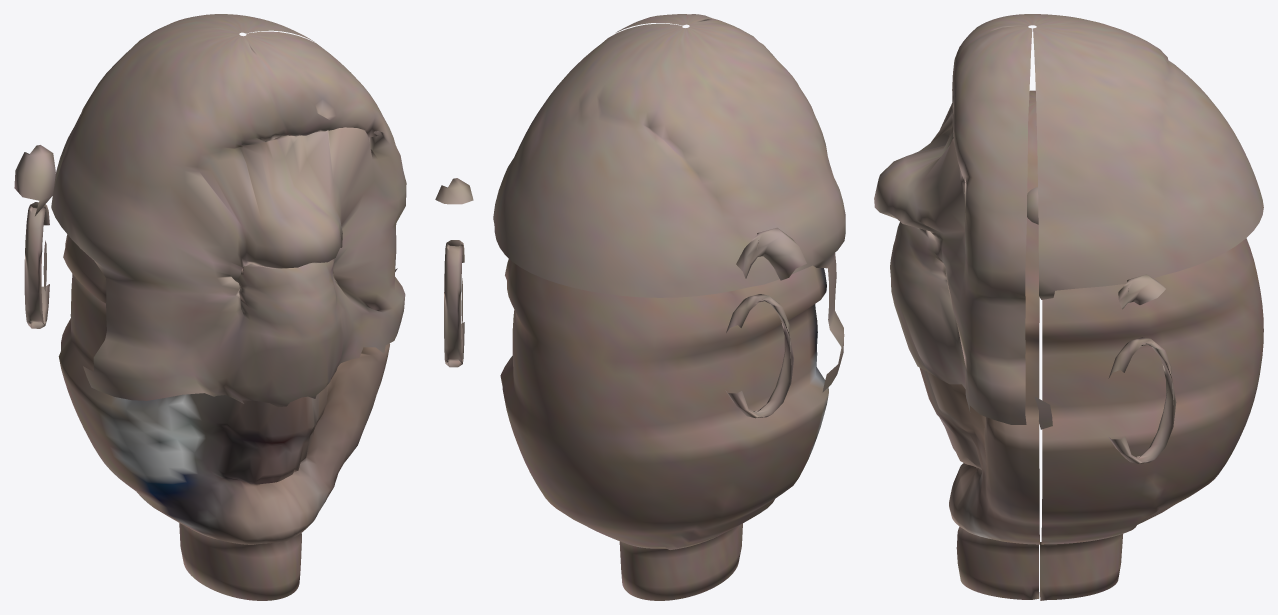
Rendered from avatar_v2_d61fecfe.glb.
The picture shows the model from 3 angles, left to right: view 1: azimuth 30°, elevation 25°; view 2: azimuth 150°, elevation 25°; view 3: azimuth 270°, elevation 25°; orthographic projection. The views are drawn at different scales.
Parts seen in each view (by area): view 1: world; view 2: world; view 3: world.
Part boxes in pixels (x1,y1,x2,y2): world: (14,14,406,600); world: (435,14,845,600); world: (874,14,1263,600).
Size of the model in its own units: 0.1099 by 0.1555 by 0.0996.
